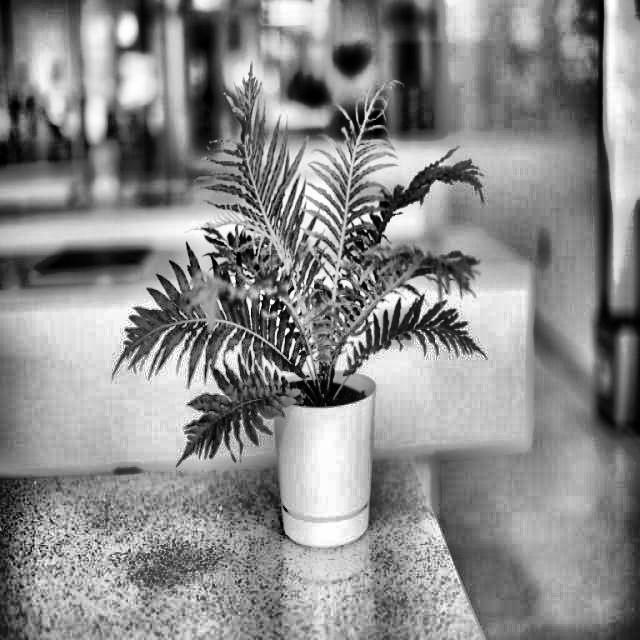plants: (130, 73, 508, 537)
